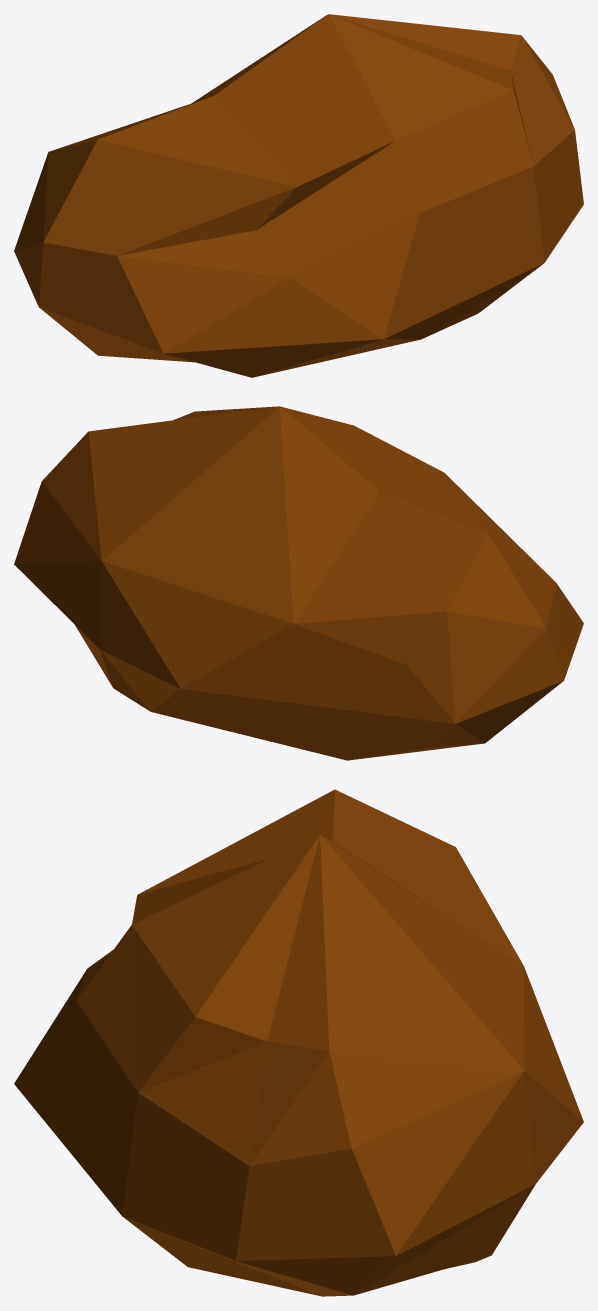
The model's file is roca 2.fbx.
3 views of the same model, one above another, from view 1: azimuth 30°, elevation 25°; view 2: azimuth 150°, elevation 25°; view 3: azimuth 270°, elevation 25° (orthographic). The views are drawn at different scales.
Visible parts, largest first — view 1: ROCA 2; view 2: ROCA 2; view 3: ROCA 2.
Boxes of the visible parts, left/top/right/bottom form: ROCA 2: left=14, top=14, right=583, bottom=377; ROCA 2: left=14, top=406, right=583, bottom=760; ROCA 2: left=14, top=789, right=583, bottom=1296.
Bounding box in the file's own units: 413 × 224 × 291.
